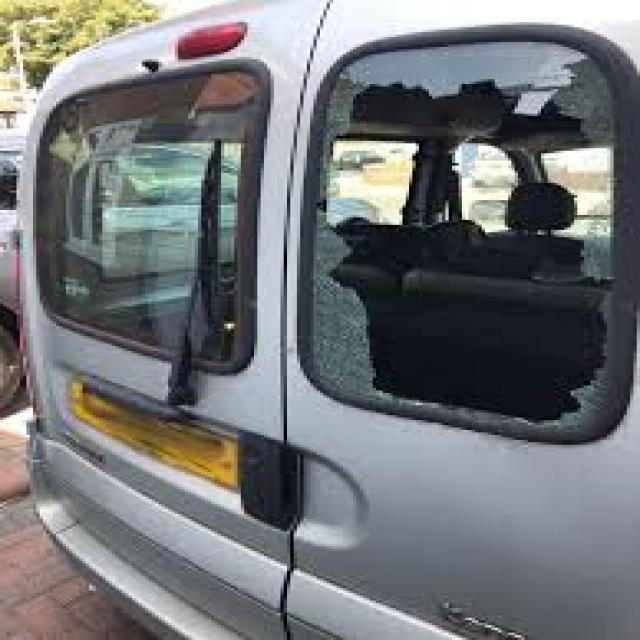damaged-window: (296, 22, 640, 442)
